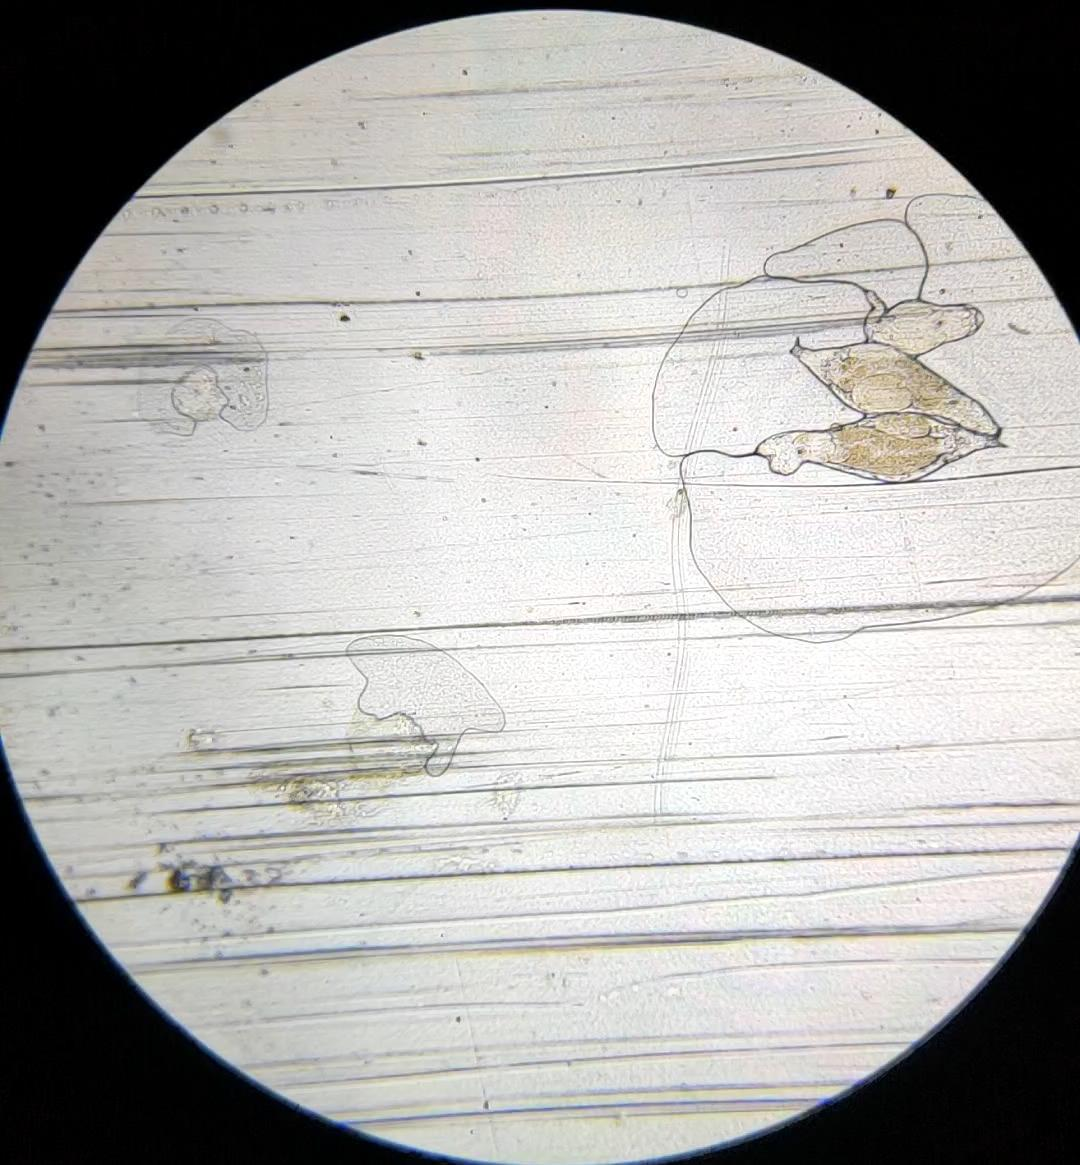Do: (791, 340, 1001, 441), (755, 413, 1007, 481), (860, 300, 985, 359)
